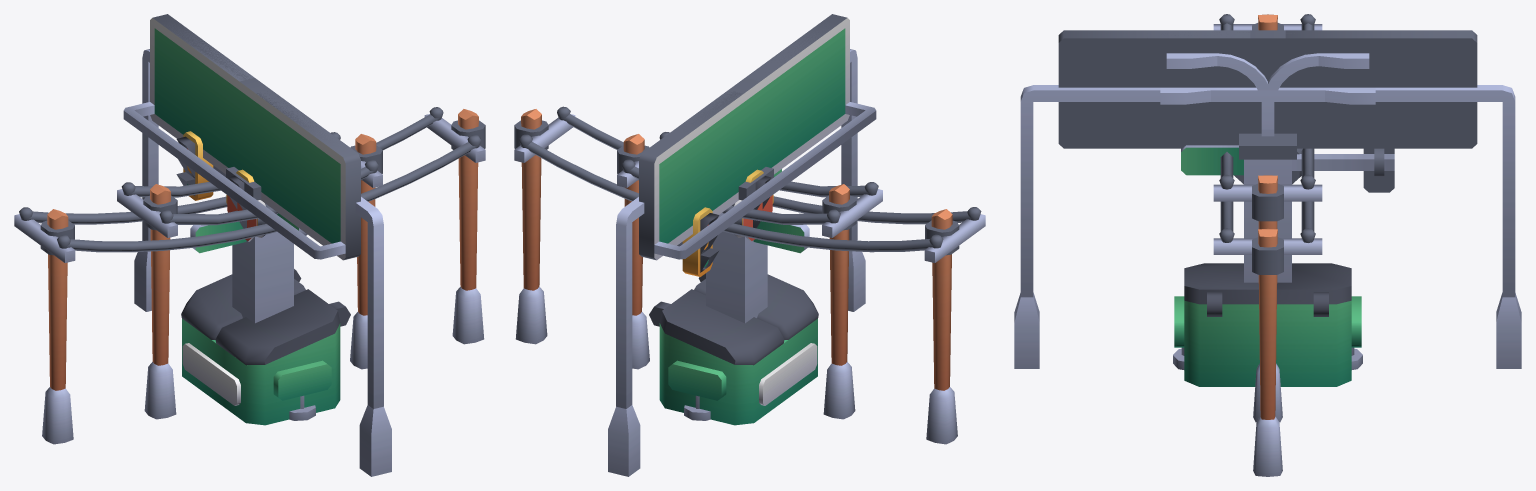
The model's file is street.glb.
3 renders of one model, left to right at view 1: azimuth 30°, elevation 25°; view 2: azimuth 150°, elevation 25°; view 3: azimuth 270°, elevation 25°, orthographic. The views are drawn at different scales.
Visible parts, largest first — view 1: sign-highway-wide, electricity-pole-wide, sign-highway, electricity-pole, dumpster, bridge-pillar-wide, lid-right, lid-left, traffic-light-hanging, road-sign-street; view 2: sign-highway-wide, electricity-pole-wide, sign-highway, electricity-pole, dumpster, lid-left, bridge-pillar-wide, lid-right, traffic-light-hanging, road-sign-street; view 3: sign-highway, dumpster, electricity-pole-wide, electricity-pole, bridge-pillar-wide, lid-left, lid-right, traffic-light-hanging, light-curved-double, sign-highway-wide, light-square-double, road-sign-street (+2 smaller).
Boxes of the visible parts, left/top/right/bottom form: sign-highway-wide: left=123, top=14, right=391, bottom=476; electricity-pole-wide: left=14, top=107, right=485, bottom=444; sign-highway: left=124, top=14, right=391, bottom=476; electricity-pole: left=117, top=132, right=382, bottom=419; dumpster: left=182, top=269, right=350, bottom=425; bridge-pillar-wide: left=226, top=167, right=293, bottom=323; lid-right: left=215, top=289, right=340, bottom=365; lid-left: left=181, top=274, right=305, bottom=339; traffic-light-hanging: left=176, top=131, right=225, bottom=200; road-sign-street: left=190, top=213, right=307, bottom=253; sign-highway-wide: left=608, top=14, right=876, bottom=476; electricity-pole-wide: left=514, top=106, right=985, bottom=444; sign-highway: left=608, top=14, right=875, bottom=476; electricity-pole: left=617, top=132, right=882, bottom=419; dumpster: left=649, top=273, right=817, bottom=425; lid-left: left=659, top=289, right=784, bottom=365; bridge-pillar-wide: left=706, top=167, right=773, bottom=323; lid-right: left=694, top=274, right=818, bottom=339; traffic-light-hanging: left=677, top=207, right=723, bottom=276; road-sign-street: left=753, top=169, right=809, bottom=253; sign-highway: left=1014, top=30, right=1521, bottom=368; dumpster: left=1174, top=292, right=1361, bottom=386; electricity-pole-wide: left=1213, top=14, right=1322, bottom=476; electricity-pole: left=1213, top=148, right=1322, bottom=422; bridge-pillar-wide: left=1239, top=133, right=1296, bottom=282; lid-left: left=1277, top=263, right=1351, bottom=304; lid-right: left=1184, top=263, right=1258, bottom=304; traffic-light-hanging: left=1292, top=148, right=1394, bottom=192; light-curved-double: left=1166, top=53, right=1369, bottom=90; sign-highway-wide: left=1017, top=30, right=1518, bottom=309; light-square-double: left=1160, top=87, right=1375, bottom=129; road-sign-street: left=1181, top=145, right=1243, bottom=175.
Bounding box in the file's own units: 1.08 × 0.7074 × 1.
Materials: 1 (1 with a texture image).
